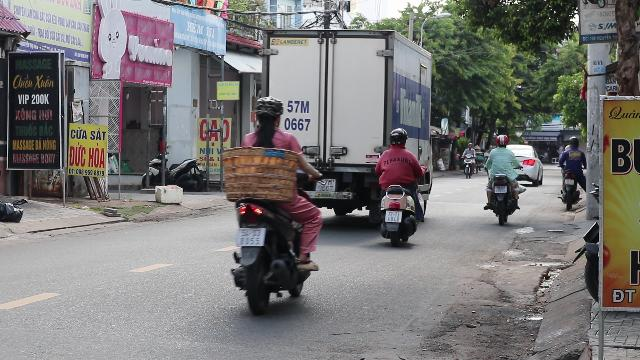helmet: (252, 96, 284, 125), (388, 127, 408, 147)
licenseplate: (236, 228, 264, 246), (385, 210, 401, 222)
motorcyclist: (220, 94, 326, 314), (374, 127, 426, 246)
